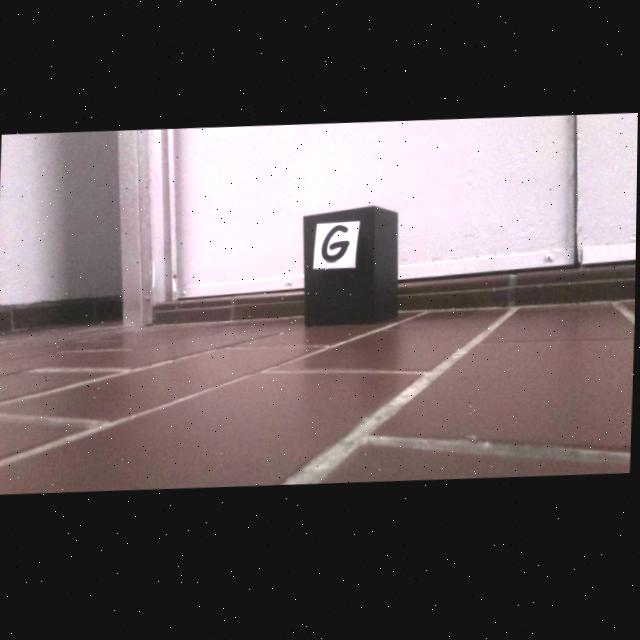G: (323, 229, 350, 265)
